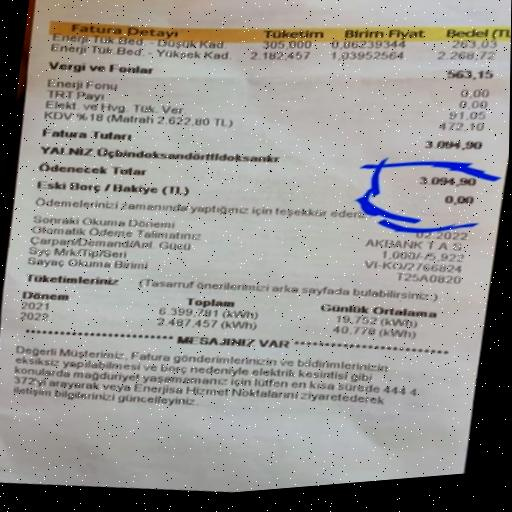electricity-bill: (0, 0, 511, 492)
